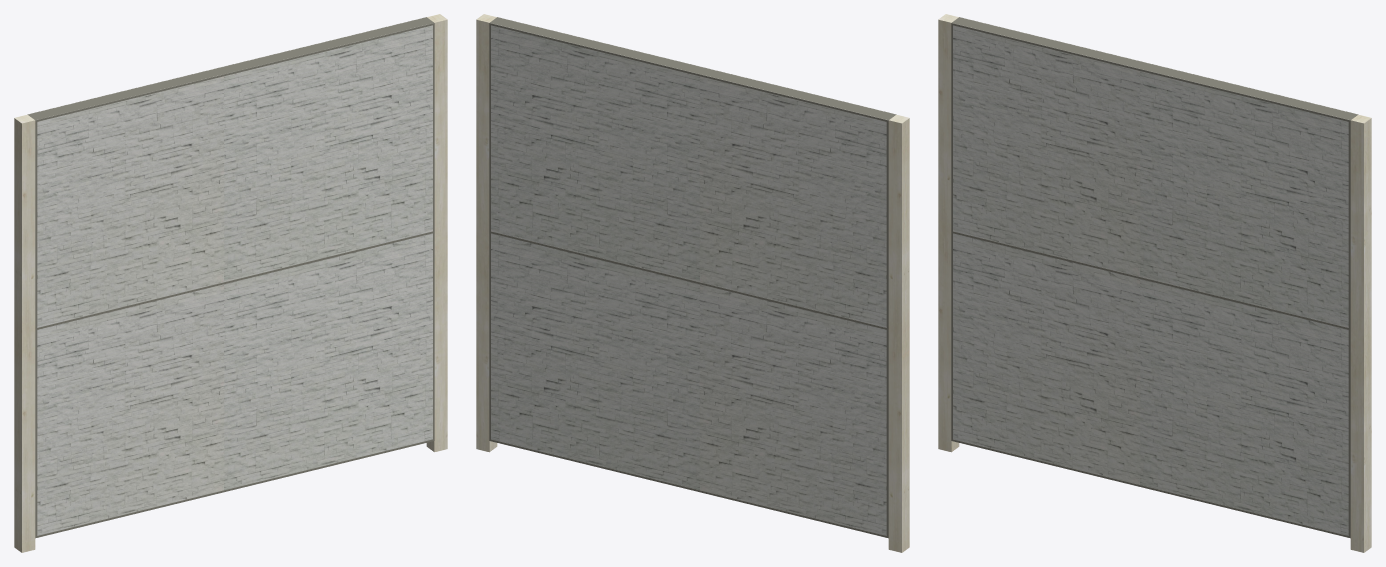
The model's file is ABF3-H1800_randomstonewhite.fbx.
The picture shows the model from 3 angles, left to right: view 1: azimuth 30°, elevation 25°; view 2: azimuth 150°, elevation 25°; view 3: azimuth 330°, elevation 25°; orthographic projection.
Visible parts, largest first — view 1: 1850-1920-60_randomstone white; view 2: 1850-1920-60_randomstone white; view 3: 1850-1920-60_randomstone white.
Part boxes in pixels (x1=…): 1850-1920-60_randomstone white: x1=14, y1=14, x2=447, y2=552; 1850-1920-60_randomstone white: x1=476, y1=14, x2=909, y2=552; 1850-1920-60_randomstone white: x1=938, y1=14, x2=1371, y2=552.
Bounding box in the file's own units: 192 × 185 × 6.4.
5 materials, 4 textured.
